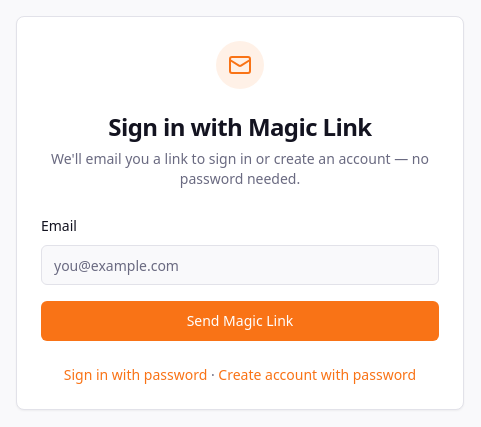
Test: MagicLinkPage › request form › shows success state after sending magic link
In the field labelled "Email": (240, 265) [41, 245, 439, 285], type "test@example.com"
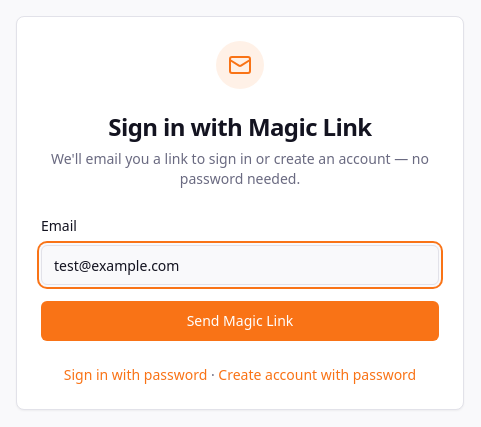
Click the button "Send Magic Link": click(240, 321) [41, 301, 439, 341]
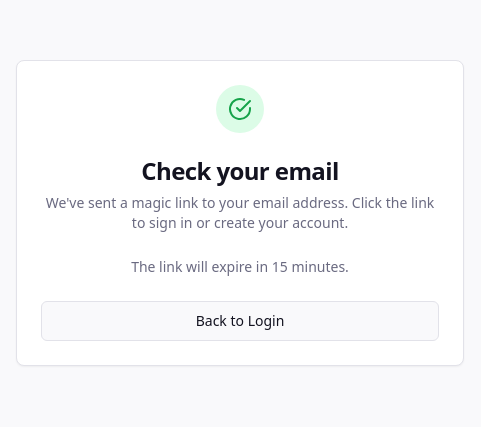
Expected: the heading "Check your email" is shown, [141, 154, 339, 187]
Expected: the text "magic link to your email address" is shown, [46, 193, 434, 232]
